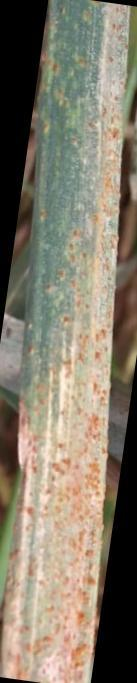Wheat: (12, 20, 120, 544), (0, 557, 100, 680)
